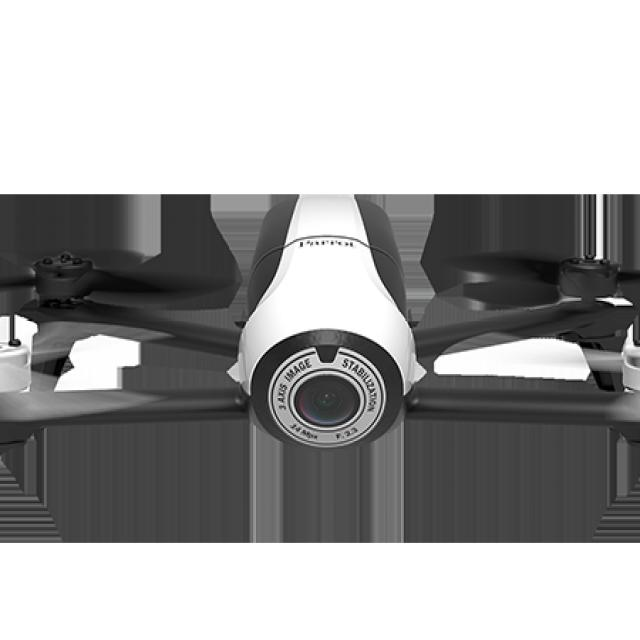drone: (0, 212, 640, 520)
